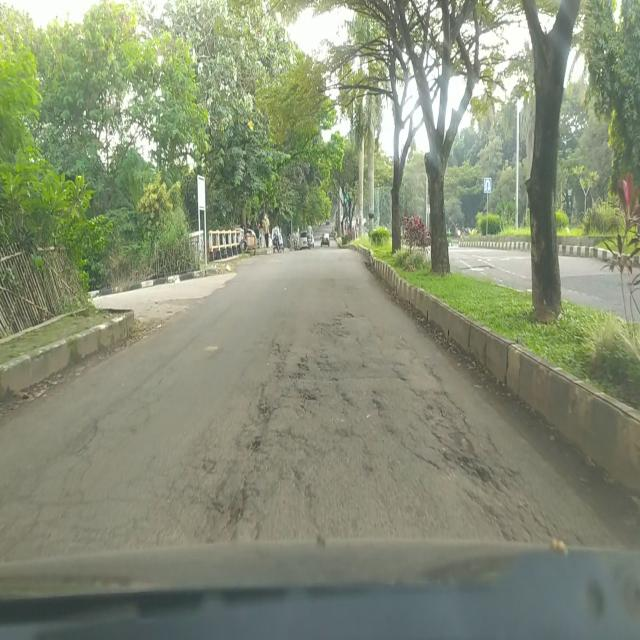Drain Hole: (374, 358, 545, 540), (201, 340, 328, 544)
